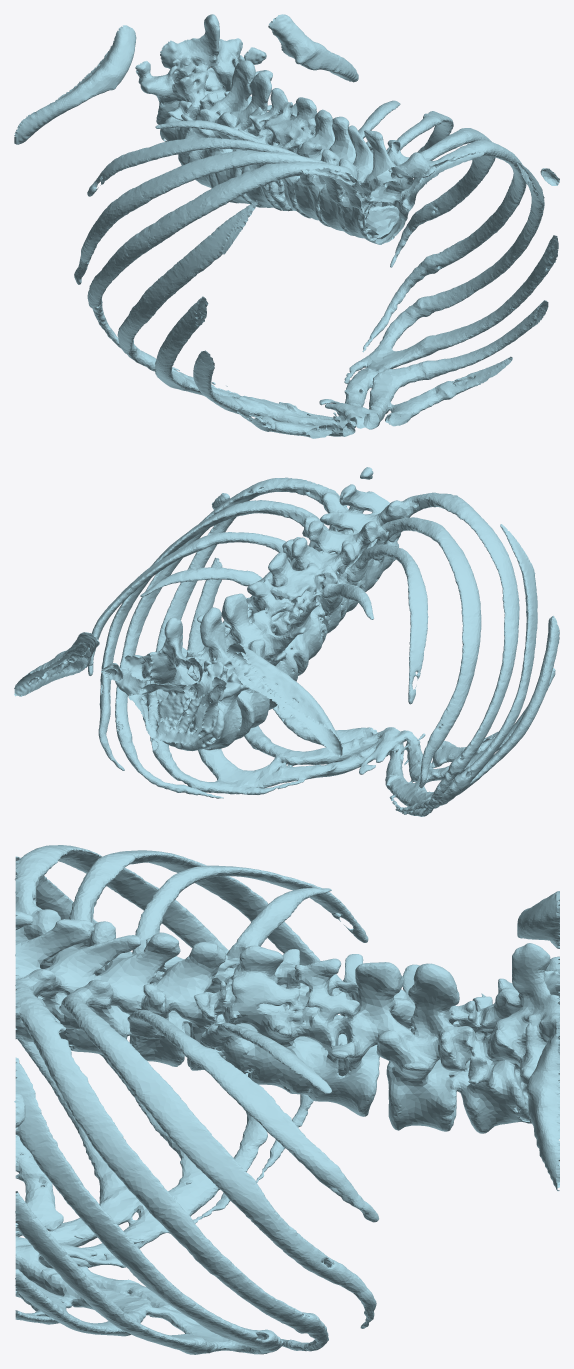
Rendered from bone.obj.
3 renders of one model, top to bottom at view 1: azimuth 30°, elevation 25°; view 2: azimuth 150°, elevation 25°; view 3: azimuth 270°, elevation 25°, orthographic. The views are drawn at different scales.
Visible parts, largest first — view 1: grp1; view 2: grp1; view 3: grp1.
Part boxes in pixels (x1,y1,x2,y2): grp1: [14, 14, 559, 438]; grp1: [14, 467, 559, 816]; grp1: [14, 845, 559, 1354].
Size of the model in its own units: 276 by 197 by 248.
